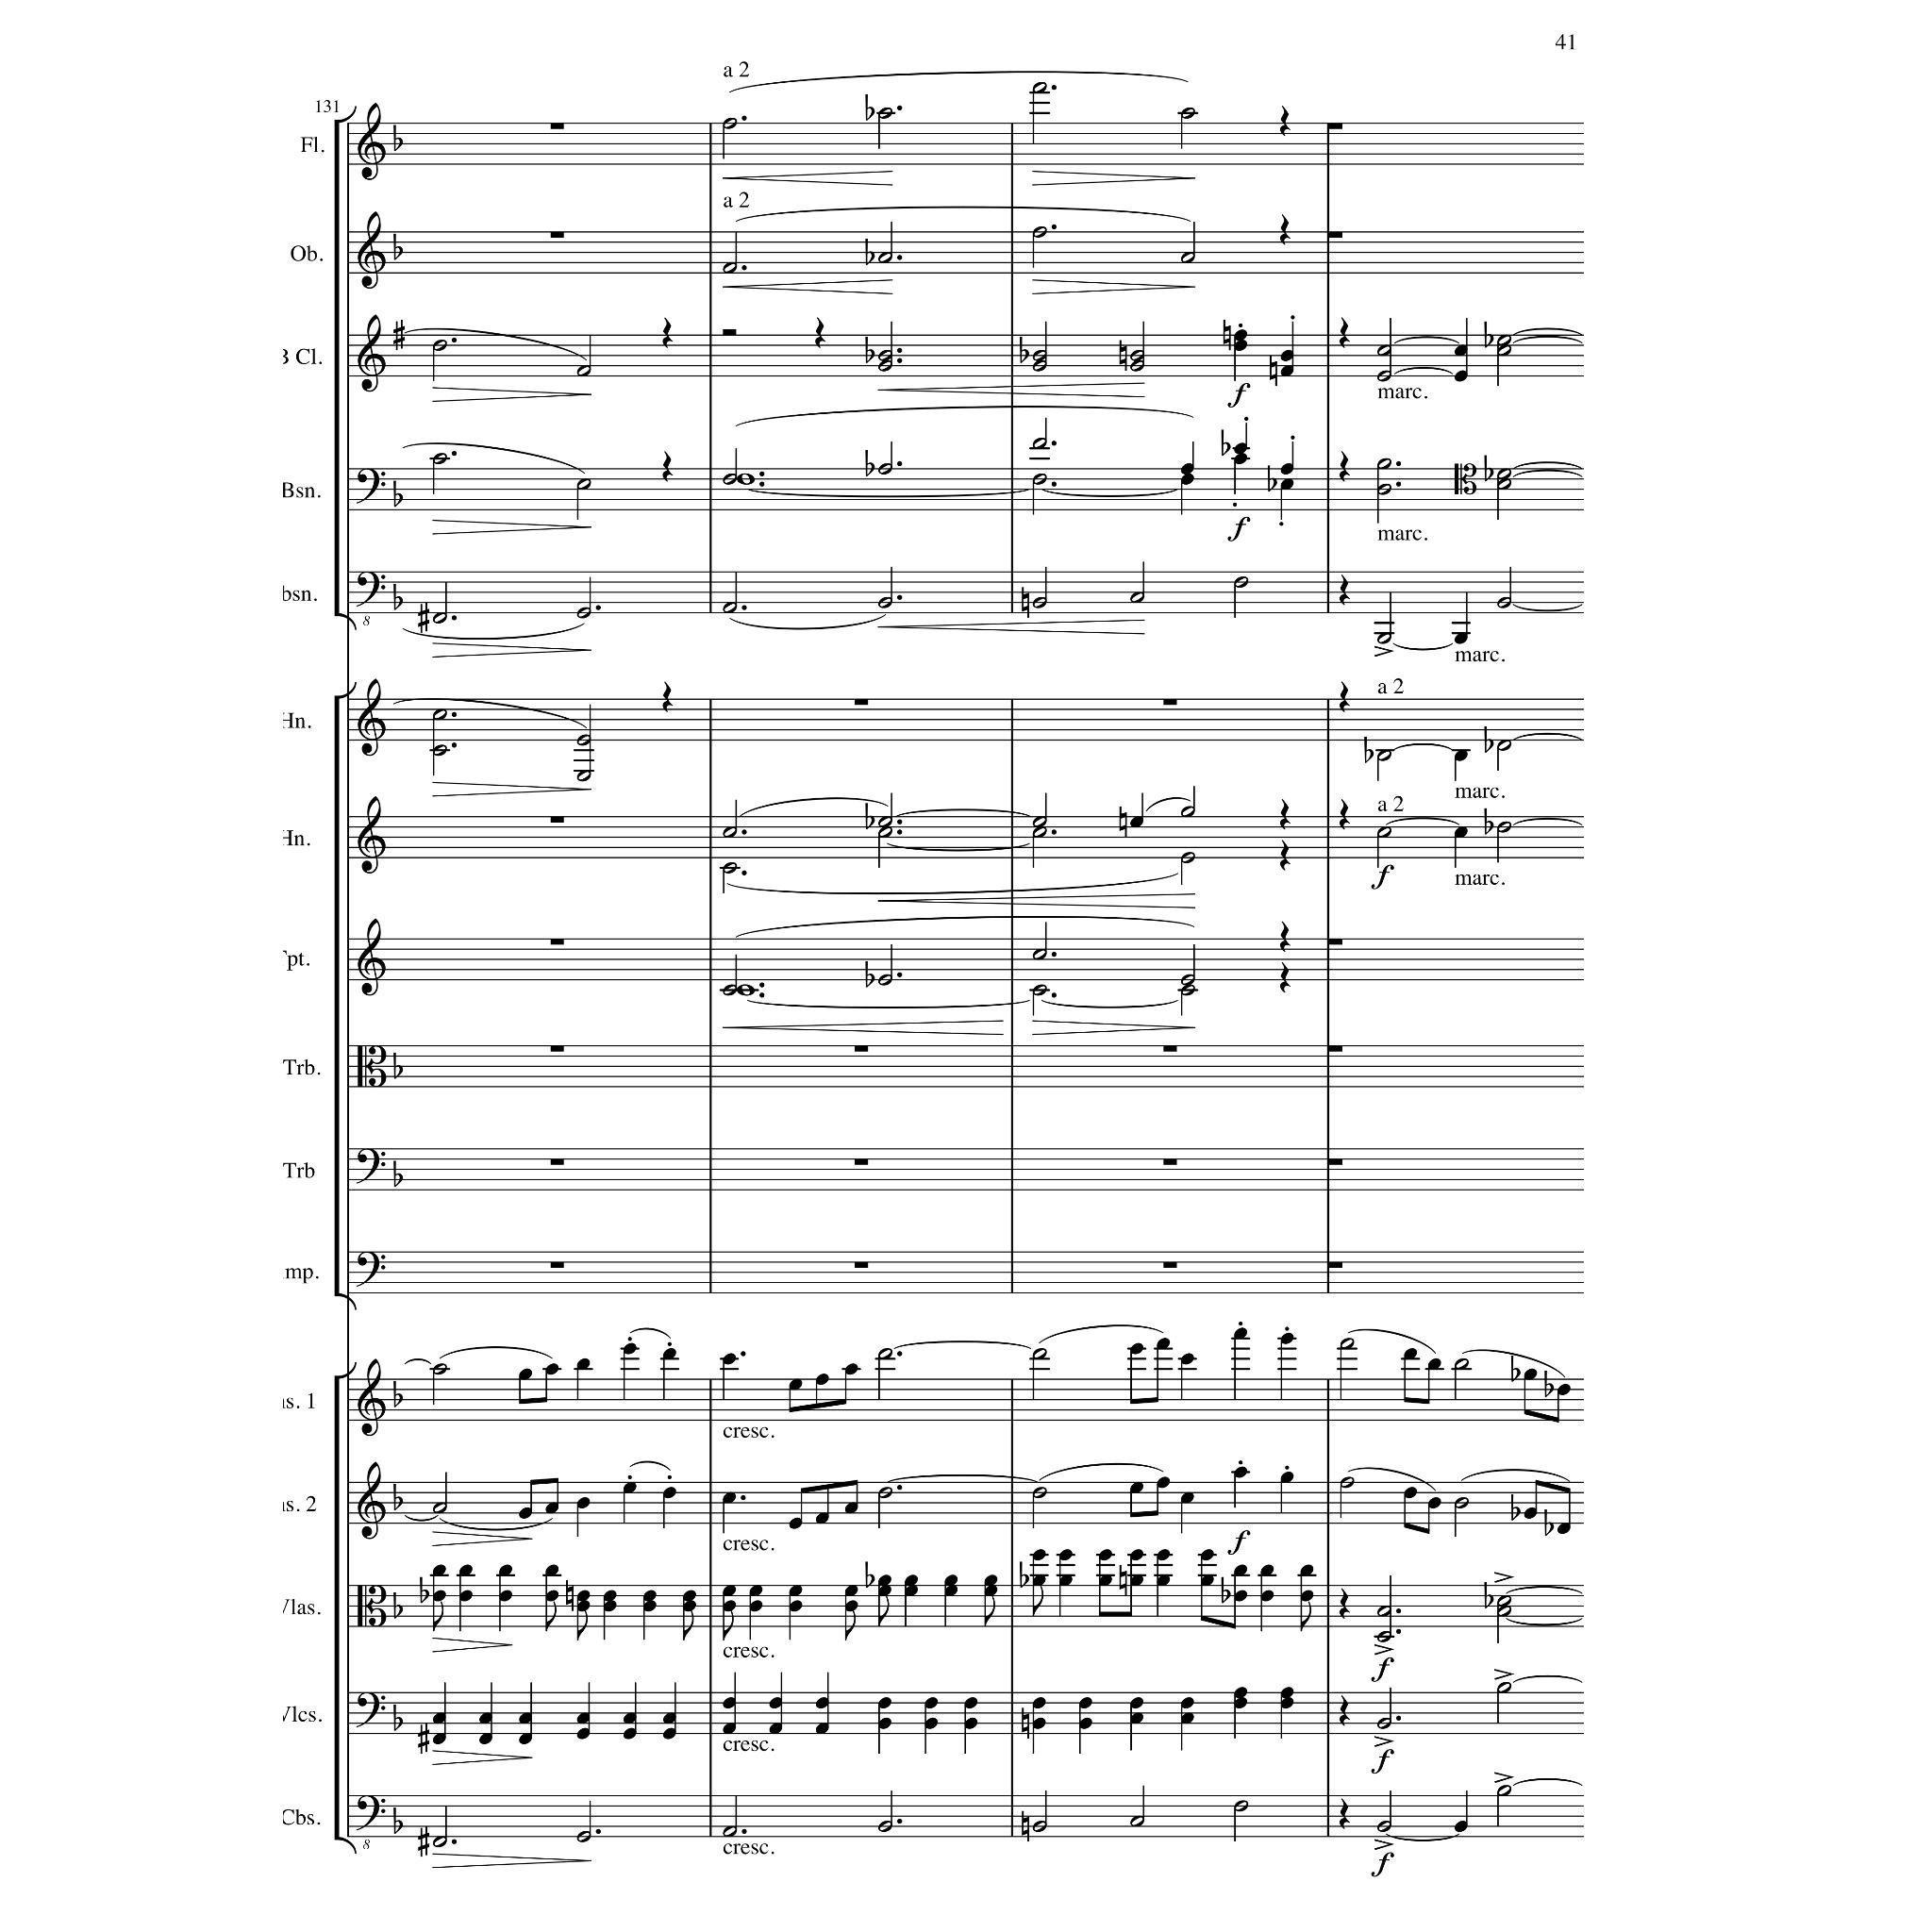fClef: (354, 571, 386, 607), (354, 469, 386, 504), (354, 1253, 386, 1288), (354, 1148, 386, 1184), (354, 1796, 386, 1831), (354, 1693, 386, 1729)
flag8thDown: (545, 1601, 557, 1633), (722, 1610, 734, 1640), (1300, 1601, 1311, 1633), (433, 1601, 444, 1633), (577, 1610, 587, 1640), (683, 1610, 694, 1640), (879, 1596, 890, 1626), (984, 1596, 994, 1626), (844, 1610, 855, 1640), (1033, 1585, 1042, 1615)
gClef: (357, 679, 386, 757), (357, 315, 386, 393), (357, 212, 386, 290), (357, 103, 386, 180), (357, 1461, 386, 1539), (357, 1359, 386, 1437), (357, 918, 386, 996), (357, 796, 386, 874)
noteheadBlack: (1260, 1564, 1274, 1576), (1260, 1591, 1274, 1603), (1279, 1688, 1293, 1700), (1279, 1332, 1293, 1345), (1279, 479, 1293, 492), (1279, 464, 1293, 476), (1279, 366, 1293, 379), (1279, 1697, 1293, 1709), (1233, 1688, 1247, 1700), (1233, 1697, 1247, 1709), (1233, 1564, 1247, 1576), (1233, 1591, 1247, 1603), (1233, 1467, 1247, 1479), (1233, 1327, 1247, 1339), (1233, 453, 1247, 465), (1233, 442, 1247, 455), (1233, 329, 1247, 341), (1233, 340, 1247, 352), (1299, 1564, 1313, 1576), (1299, 1591, 1313, 1603), (1097, 1575, 1111, 1587), (1077, 1697, 1092, 1709), (1077, 1718, 1092, 1730), (1058, 1550, 1072, 1562), (1058, 1575, 1072, 1587), (1097, 1550, 1111, 1562), (1129, 1713, 1143, 1725), (1129, 1697, 1143, 1709), (1129, 1550, 1143, 1562), (1129, 1575, 1143, 1587), (1129, 1481, 1143, 1493), (1129, 1343, 1143, 1355), (1129, 816, 1143, 828), (1180, 1697, 1194, 1709), (1180, 1713, 1194, 1725), (1180, 1491, 1194, 1504), (1200, 1550, 1214, 1562), (1200, 1575, 1214, 1587), (1180, 1353, 1194, 1366), (1180, 472, 1194, 485), (1180, 464, 1194, 476), (1155, 1550, 1169, 1562), (1155, 1575, 1169, 1587), (1155, 1477, 1169, 1490), (1155, 1338, 1169, 1350), (1557, 1522, 1571, 1534), (1557, 1384, 1571, 1396), (1523, 1507, 1537, 1520), (1523, 1368, 1537, 1380), (1453, 1821, 1467, 1833), (1453, 826, 1467, 839), (1453, 750, 1467, 763), (1426, 1497, 1440, 1509), (1453, 345, 1467, 357), (1453, 370, 1467, 382), (1403, 1488, 1417, 1500), (1403, 1348, 1417, 1361), (577, 1713, 591, 1725), (577, 1591, 591, 1603), (577, 1601, 591, 1614), (577, 1497, 591, 1509), (602, 1601, 616, 1614), (518, 1713, 533, 1725), (518, 1732, 533, 1744), (518, 1507, 533, 1520), (518, 1368, 533, 1380), (499, 1564, 513, 1576), (499, 1591, 513, 1603), (478, 1713, 492, 1725), (478, 1732, 492, 1744), (458, 1564, 472, 1576), (458, 1591, 472, 1603), (545, 1564, 559, 1576), (602, 1591, 616, 1603), (545, 1591, 559, 1603), (545, 1502, 559, 1514), (545, 1364, 559, 1376), (722, 1601, 736, 1614), (722, 1491, 736, 1504), (722, 1353, 736, 1366), (722, 1585, 736, 1598), (683, 1591, 697, 1603), (683, 1601, 697, 1614), (722, 1697, 736, 1709), (722, 1723, 736, 1736), (642, 1591, 656, 1603), (642, 1601, 656, 1614), (623, 1713, 637, 1725), (623, 1481, 637, 1493), (623, 1343, 637, 1355), (662, 1713, 676, 1725), (662, 1488, 676, 1500), (662, 1348, 676, 1361), (432, 1713, 446, 1725), (432, 1732, 446, 1744), (432, 1564, 446, 1576), (432, 1591, 446, 1603), (943, 1575, 957, 1587), (943, 1585, 957, 1598), (924, 1697, 938, 1709), (924, 1718, 938, 1730), (904, 1575, 918, 1587), (904, 1585, 918, 1598), (878, 1697, 892, 1709), (878, 1718, 892, 1730), (878, 1575, 892, 1587), (878, 1585, 892, 1598), (1031, 1550, 1046, 1562), (1031, 1575, 1046, 1587), (1031, 1718, 1046, 1730), (984, 1575, 998, 1587), (984, 1585, 998, 1598), (964, 1697, 978, 1709), (964, 1718, 978, 1730), (1031, 1697, 1046, 1709), (844, 1364, 858, 1376), (814, 1697, 828, 1709), (814, 1723, 828, 1736), (814, 1513, 828, 1525), (814, 1373, 828, 1385), (844, 1585, 858, 1598), (844, 1601, 858, 1614), (844, 1502, 858, 1514), (787, 1585, 801, 1598), (748, 1601, 763, 1614), (787, 1601, 801, 1614), (787, 1518, 801, 1530), (787, 1378, 801, 1391), (748, 1585, 763, 1598), (770, 1723, 782, 1736), (770, 1697, 782, 1709), (1279, 1472, 1293, 1483), (1279, 350, 1293, 361), (1453, 633, 1467, 644), (1426, 1359, 1440, 1369), (577, 1729, 591, 1739), (577, 1359, 591, 1369), (623, 1729, 637, 1739), (662, 1729, 676, 1739)
noteheadHalf: (1129, 1815, 1145, 1828), (1129, 593, 1145, 605), (1129, 359, 1145, 372), (1180, 984, 1196, 996), (1180, 853, 1196, 865), (1180, 807, 1196, 819), (1180, 251, 1196, 264), (432, 1836, 448, 1849), (432, 1502, 448, 1514), (432, 1364, 448, 1376), (432, 709, 448, 722), (432, 745, 448, 757), (432, 612, 448, 625), (432, 453, 448, 465), (432, 340, 448, 352), (1233, 1801, 1247, 1813), (1233, 577, 1247, 589), (1339, 1477, 1353, 1490), (1339, 1338, 1353, 1350), (1376, 750, 1391, 763), (1376, 458, 1391, 471), (1376, 483, 1391, 495), (1376, 345, 1391, 357), (1376, 370, 1391, 382), (1376, 1821, 1391, 1833), (1376, 1718, 1391, 1730), (1376, 1605, 1391, 1617), (1376, 1631, 1391, 1644), (1376, 826, 1391, 839), (1454, 1497, 1468, 1509), (1497, 821, 1511, 833), (1497, 1785, 1511, 1798), (1497, 1681, 1511, 1693), (1497, 1594, 1511, 1606), (1497, 1605, 1511, 1617), (1497, 740, 1511, 752), (1497, 596, 1511, 609), (1497, 469, 1511, 481), (1497, 479, 1511, 492), (1497, 334, 1511, 347), (1497, 345, 1511, 357), (577, 1831, 591, 1844), (577, 734, 591, 747), (577, 770, 591, 782), (577, 607, 591, 619), (577, 479, 591, 492), (577, 366, 591, 379), (722, 262, 736, 274), (722, 984, 736, 996), (722, 862, 736, 874), (722, 826, 736, 839), (722, 602, 736, 614), (722, 472, 736, 485), (722, 117, 736, 129), (722, 1826, 736, 1838), (878, 1821, 892, 1833), (878, 1488, 892, 1500), (878, 1348, 892, 1361), (1031, 81, 1046, 94), (1031, 1488, 1046, 1500), (1031, 1348, 1046, 1361), (1031, 984, 1046, 996), (1031, 948, 1046, 961), (1031, 826, 1046, 839), (1031, 816, 1046, 828), (1031, 596, 1046, 609), (1031, 472, 1046, 485), (1031, 437, 1046, 449), (1031, 359, 1046, 372), (1031, 226, 1046, 239), (1031, 1821, 1046, 1833), (878, 826, 892, 839), (878, 816, 892, 828), (878, 596, 892, 609), (878, 464, 892, 476), (878, 359, 892, 372), (878, 251, 892, 264), (1129, 350, 1145, 361), (1180, 975, 1196, 985), (1180, 108, 1196, 119), (1376, 633, 1391, 644), (1454, 1359, 1468, 1369), (1031, 350, 1046, 361), (878, 975, 892, 985), (878, 350, 892, 361), (878, 108, 892, 119)
noteheadWhole: (736, 984, 755, 996), (736, 472, 755, 485)
restHalf: (722, 329, 736, 336)
restQuarter: (814, 317, 826, 349), (1279, 920, 1290, 954), (1279, 961, 1290, 993), (1279, 840, 1290, 872), (1279, 800, 1290, 832), (1279, 214, 1290, 246), (1279, 106, 1290, 138), (1339, 1798, 1350, 1829), (1339, 1695, 1350, 1727), (1339, 800, 1350, 832), (1339, 681, 1350, 713), (1339, 575, 1350, 607), (1339, 451, 1350, 483), (1339, 317, 1350, 349), (662, 317, 672, 349), (662, 681, 672, 713), (662, 451, 672, 483), (1339, 1589, 1350, 1619)
restWhole: (1162, 1159, 1177, 1166), (1162, 1261, 1177, 1269), (853, 1261, 867, 1269), (853, 1159, 867, 1166), (1162, 699, 1177, 706), (1162, 1046, 1177, 1053), (853, 699, 867, 706), (853, 1046, 867, 1053), (1327, 1261, 1341, 1269), (1327, 1159, 1341, 1166), (1327, 1046, 1341, 1053), (1327, 939, 1341, 947), (1327, 232, 1341, 239), (550, 1261, 564, 1269), (550, 1159, 564, 1166), (550, 1046, 564, 1053), (550, 939, 564, 947), (550, 816, 564, 823), (550, 232, 564, 239), (1327, 124, 1341, 129), (550, 124, 564, 129)
